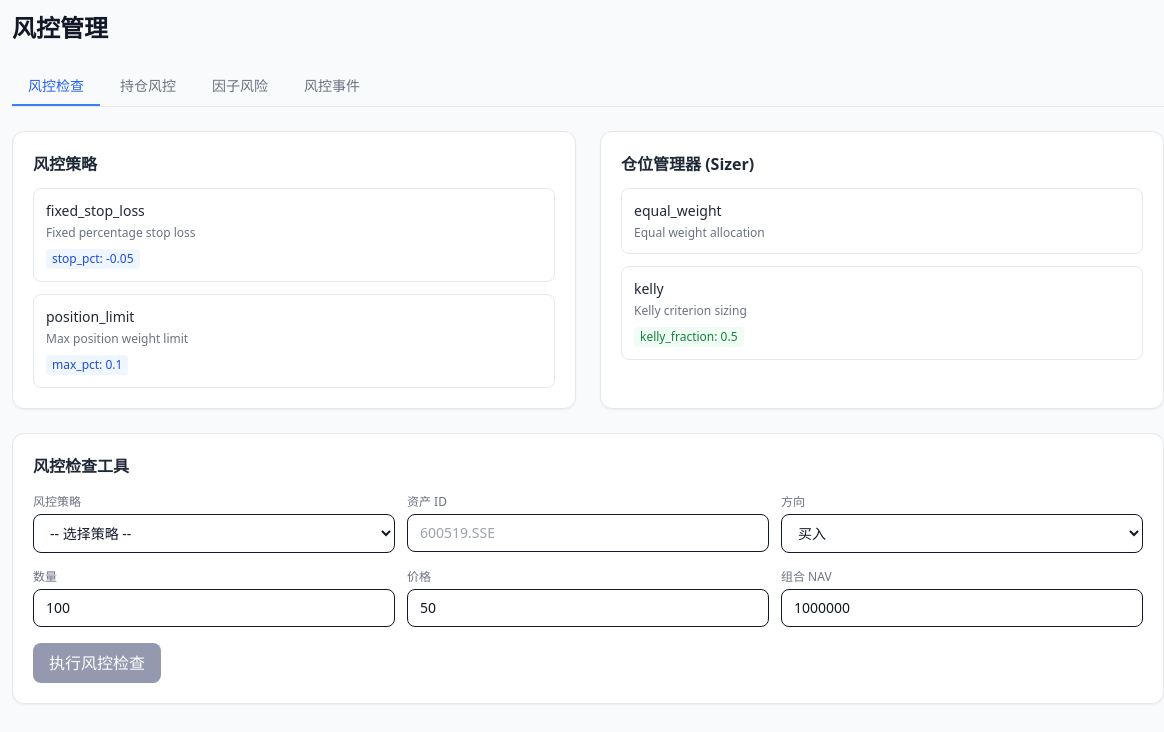
Test: RiskPage › switches to risk events tab
What coordinates should you click on to do the following:
click the button "风控事件"
I would click on:
 (332, 87)
Its box is [288,68,376,106].
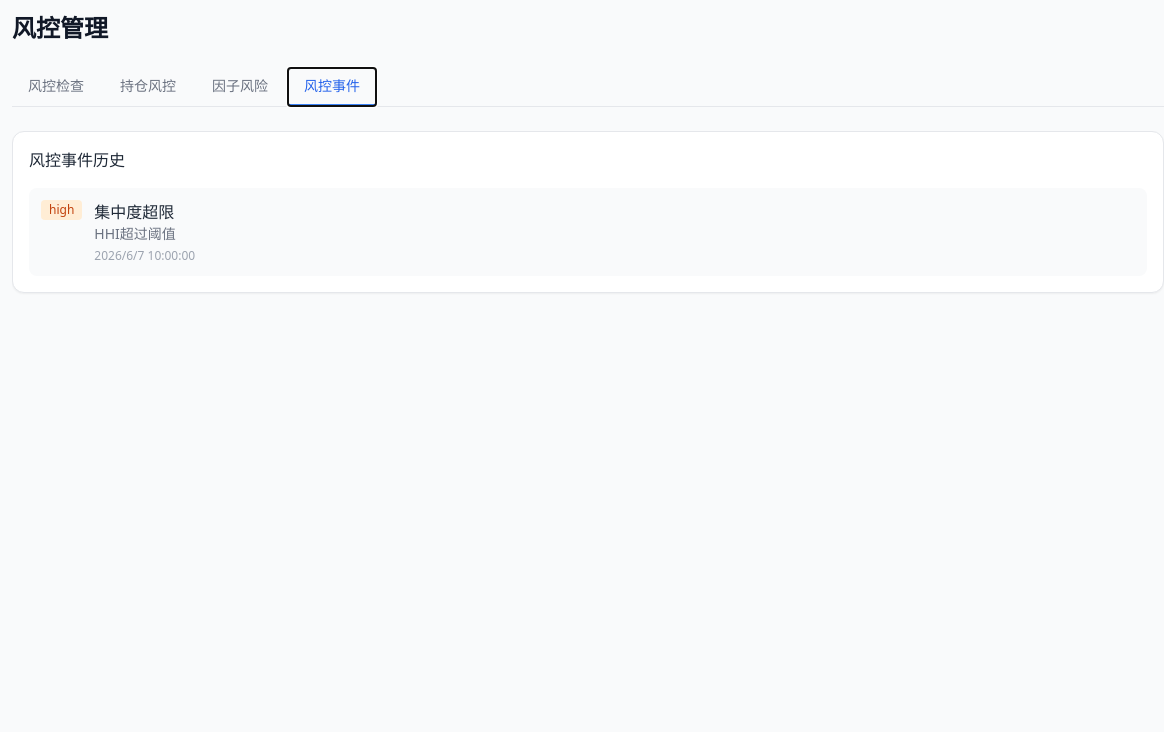
Now the text "集中度超限" is shown, box [94,201,174,223]
